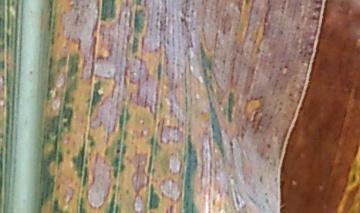tarspot: (113, 145, 124, 156)
